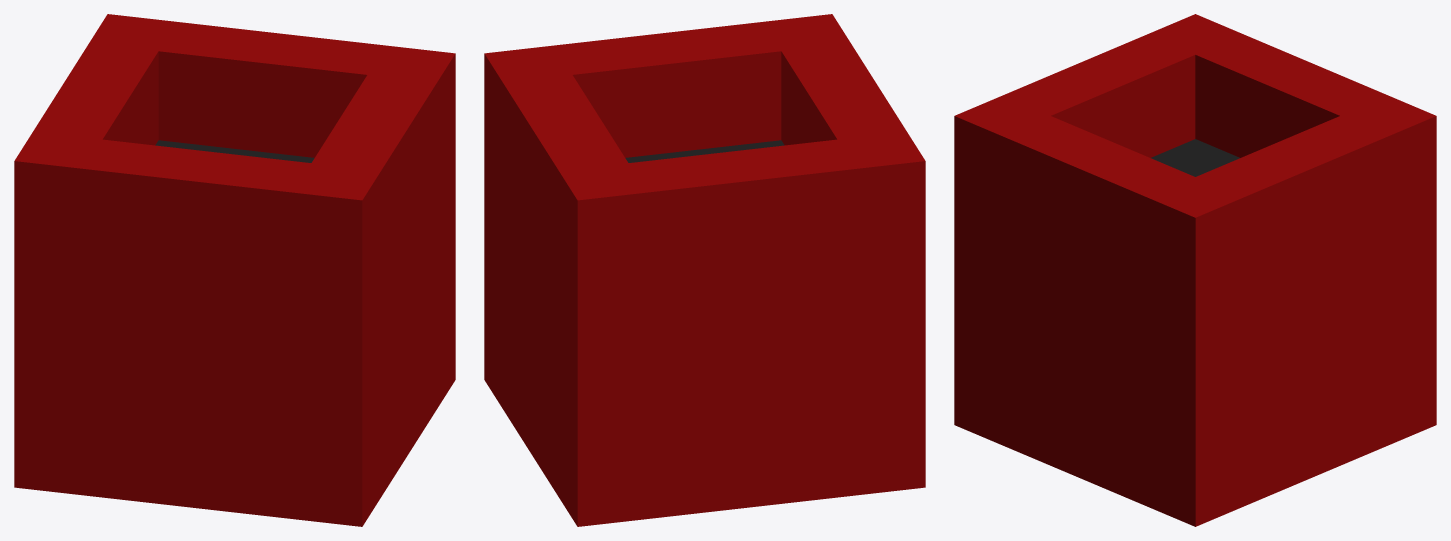
Rendered from trapWallHole.fbx.
The picture shows the model from 3 angles, left to right: view 1: azimuth 30°, elevation 25°; view 2: azimuth 150°, elevation 25°; view 3: azimuth 270°, elevation 25°; orthographic projection. The views are drawn at different scales.
Parts seen in each view (by area): view 1: Model; view 2: Model; view 3: Model.
Boxes of the visible parts, x1,y1,x2,y2 form: Model: [14, 14, 455, 526]; Model: [484, 14, 925, 526]; Model: [954, 14, 1436, 526].
Size of the model in its own units: 1.41 by 1 by 1.41.
